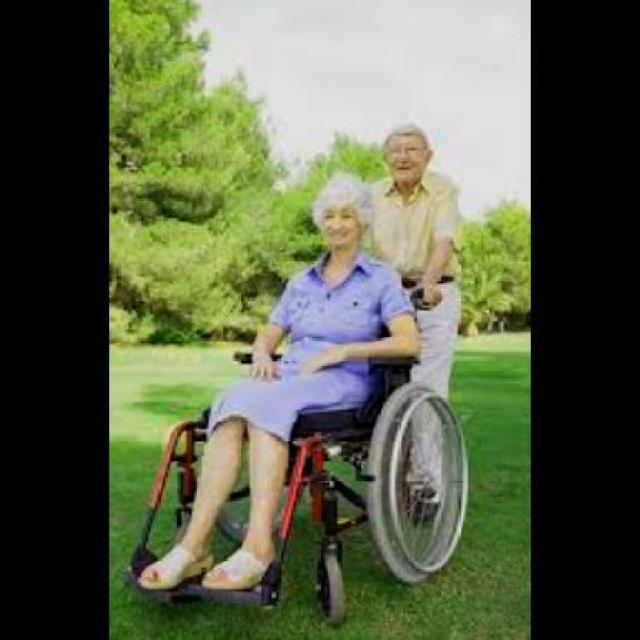wheelchairs: (110, 284, 514, 630)
